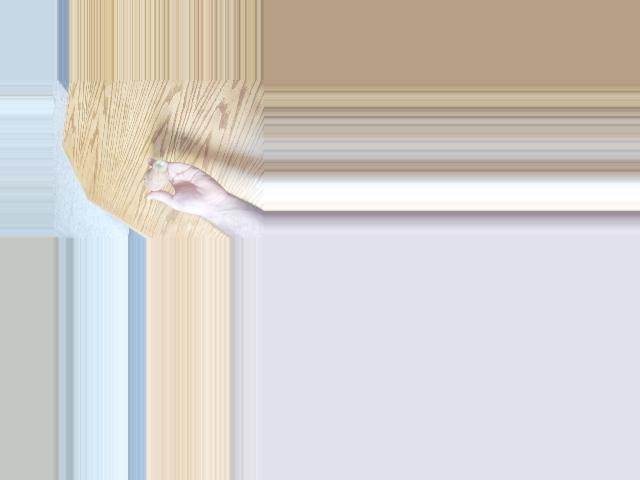sweet_potato: (133, 159, 168, 195)
